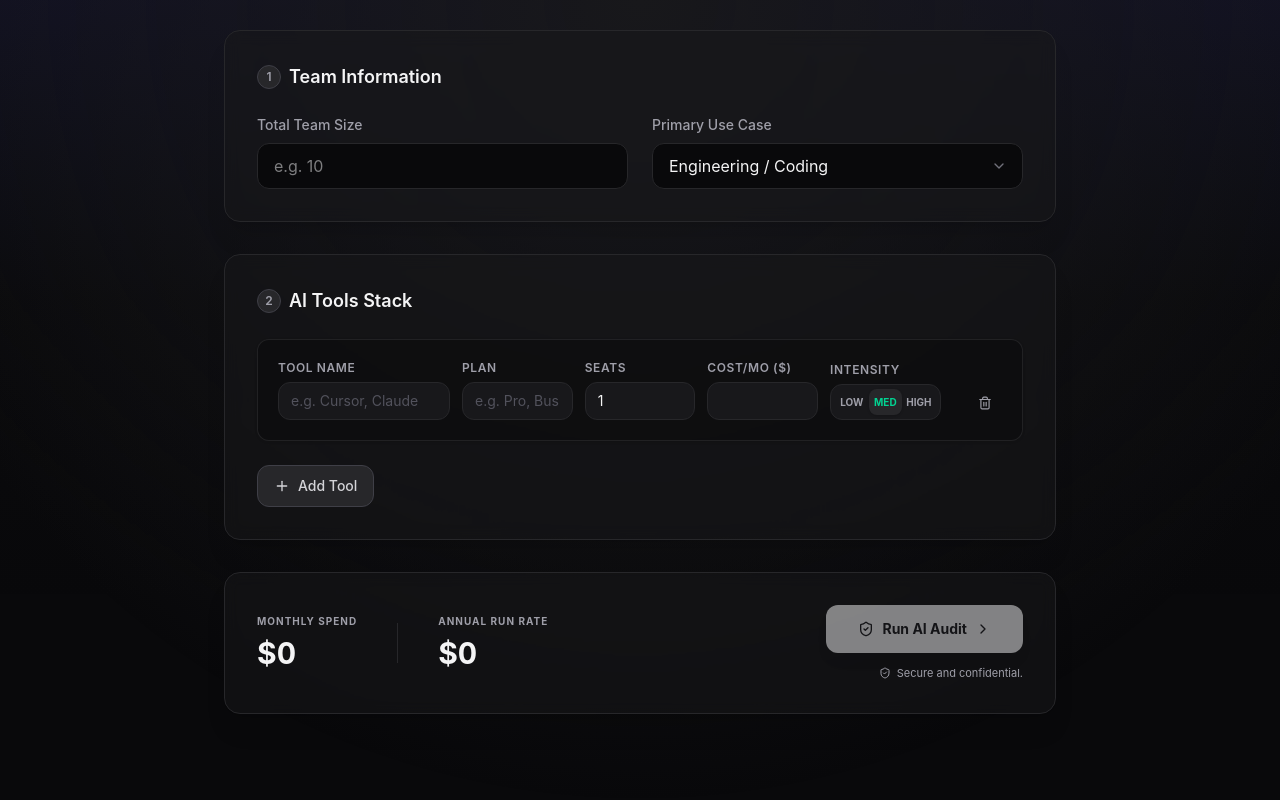
Test case: LandingPage › shows estimated savings badge when spend exceeds threshold
(page scrolled)
In the number field labelled "Cost/mo ($)": coordinates (763, 400) [707,382,818,420], type "200"
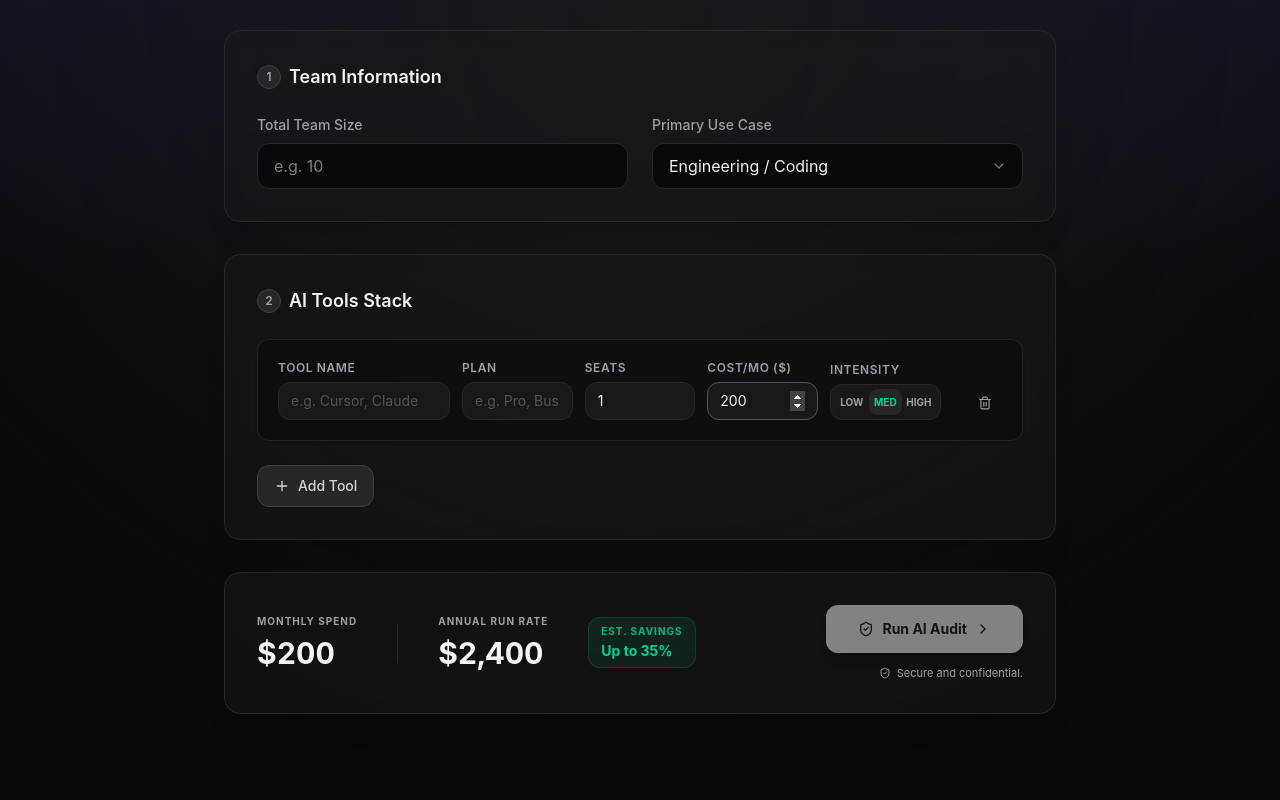
Check: the text "Up to 35%" is shown, box [601,641,683,661]
